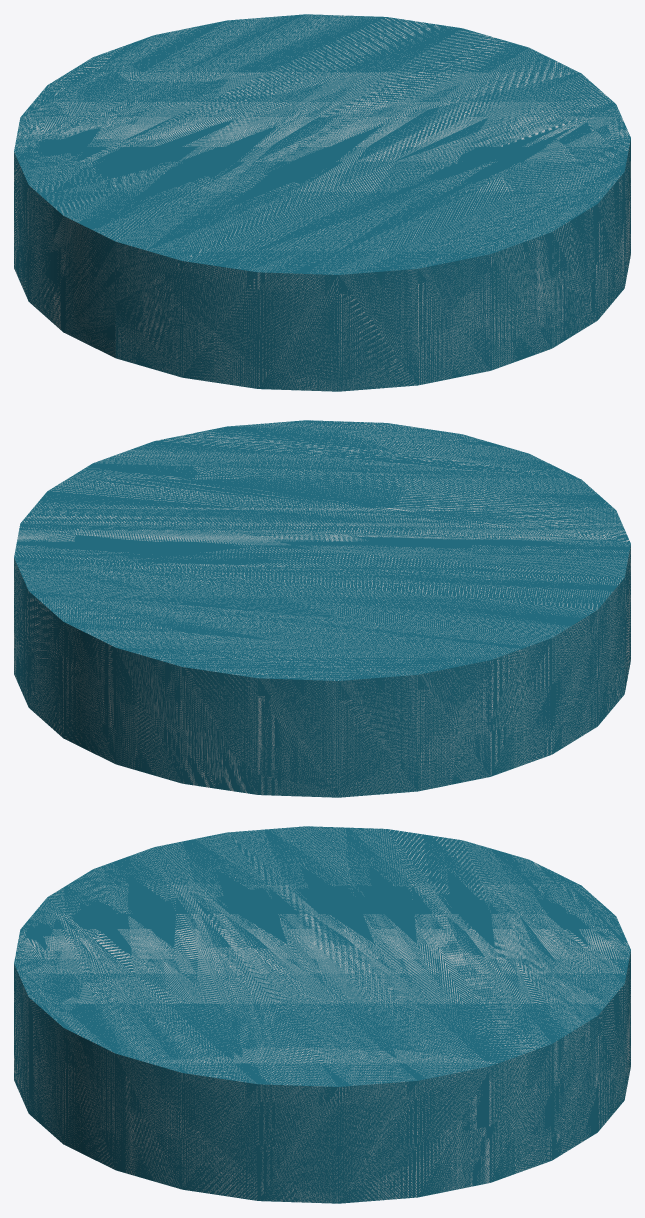
The model's file is original-12.obj.
The picture shows the model from 3 angles, top to bottom: view 1: azimuth 30°, elevation 25°; view 2: azimuth 150°, elevation 25°; view 3: azimuth 270°, elevation 25°; orthographic projection.
Visible parts, largest first — view 1: #ID123; view 2: #ID123; view 3: #ID123.
Boxes of the visible parts, <box> form: #ID123: <box>14,14,630,391</box>; #ID123: <box>14,420,630,797</box>; #ID123: <box>14,826,630,1203</box>.
Bounding box in the file's own units: 0.0717 × 0.015 × 0.0717.
Materials: 2 (1 with a texture image).
